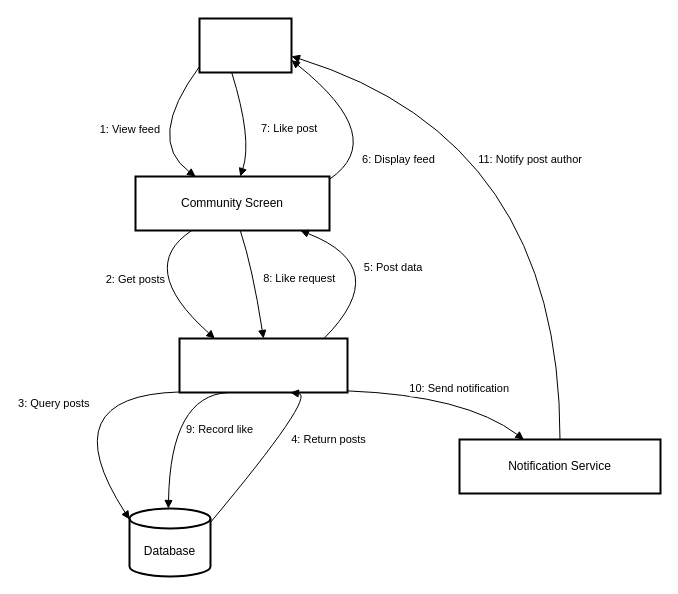
The diagram is 678 pixels wide and 594 high, and some of its shapes have lost their labels. The shapes that lost their labels are listed below. From the top down, each one's centre as x and y in pixels, then its label:
(245,45): User
(263,365): Community API
